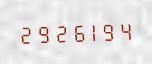four: (119, 18, 135, 41)
nine: (34, 21, 50, 44), (102, 19, 118, 42)
one: (85, 19, 101, 43)
six: (68, 20, 84, 43)
two: (51, 20, 67, 44), (17, 22, 33, 45)
